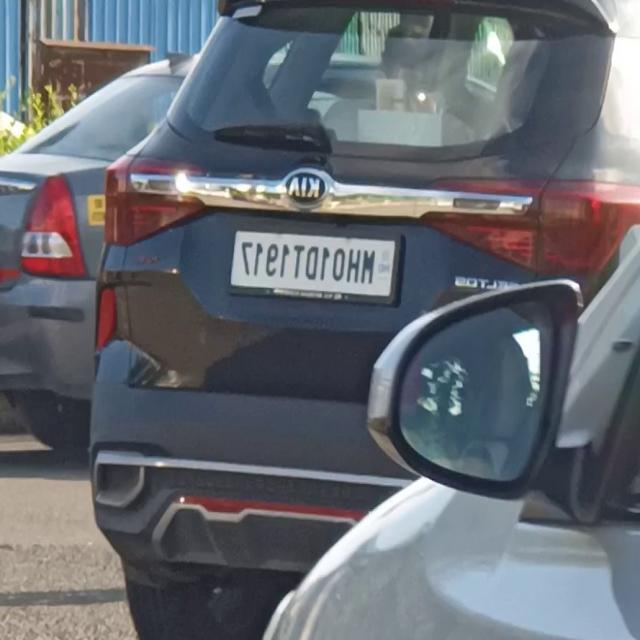license_plate: (222, 220, 406, 312)
